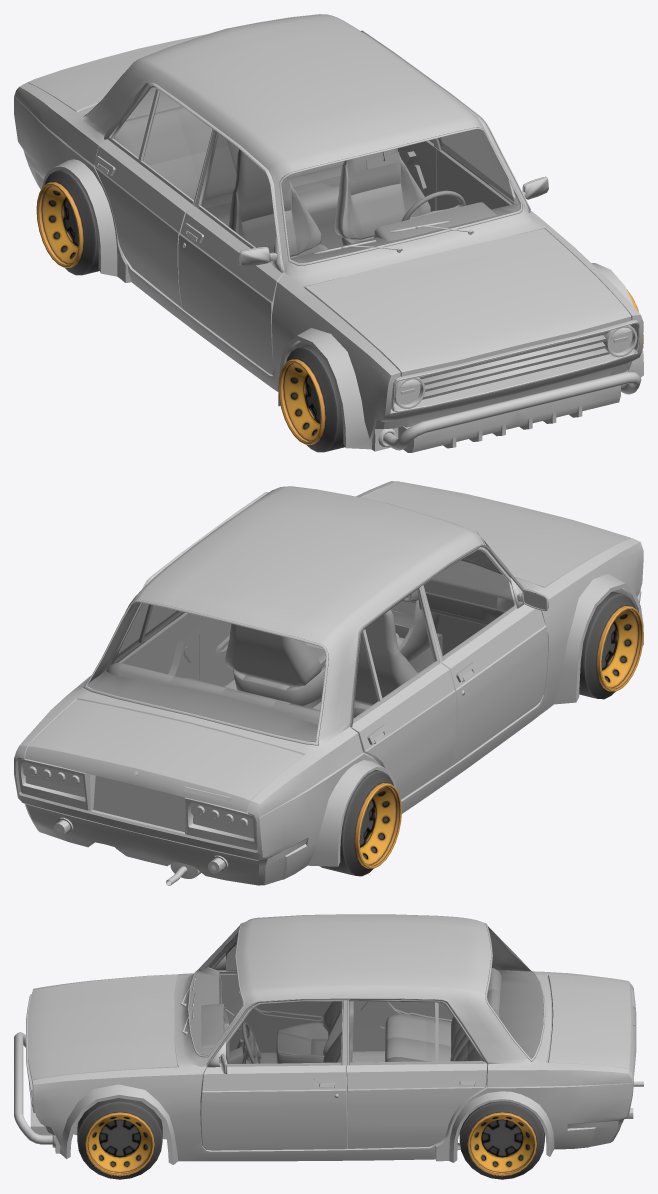
The model's file is Lada_Blender.fbx.
3 renders of one model, top to bottom at view 1: azimuth 30°, elevation 25°; view 2: azimuth 150°, elevation 25°; view 3: azimuth 270°, elevation 25°, orthographic. The views are drawn at different scales.
Parts seen in each view (by area): view 1: Body.001, Glass, Cylinder.005, Cylinder.007; view 2: Body.001, Glass, Cylinder.005, Cylinder.007; view 3: Body.001, Glass, Cylinder.002, Cylinder.006.
Part boxes in pixels (x1=…): Body.001: x1=14, y1=14, x2=643, y2=452; Glass: x1=114, y1=88, x2=520, y2=262; Cylinder.005: x1=278, y1=345, x2=344, y2=452; Cylinder.007: x1=36, y1=169, x2=99, y2=275; Body.001: x1=14, y1=481, x2=643, y2=885; Glass: x1=87, y1=533, x2=514, y2=741; Cylinder.005: x1=579, y1=591, x2=643, y2=699; Cylinder.007: x1=320, y1=770, x2=401, y2=876; Body.001: x1=14, y1=914, x2=643, y2=1164; Glass: x1=189, y1=925, x2=543, y2=1063; Cylinder.002: x1=77, y1=1098, x2=162, y2=1179; Cylinder.006: x1=459, y1=1101, x2=544, y2=1179.
Bounding box in the file's own units: 188 × 124 × 403.
